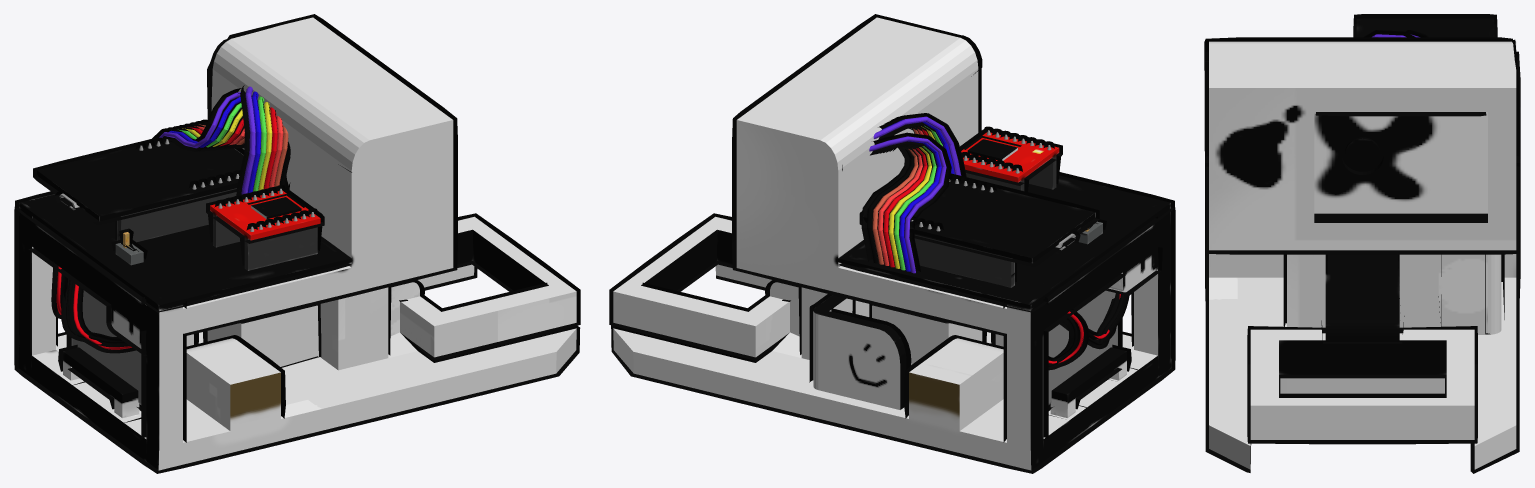
File: TuFu.glb
The picture shows the model from 3 angles, left to right: view 1: azimuth 30°, elevation 25°; view 2: azimuth 150°, elevation 25°; view 3: azimuth 270°, elevation 25°; orthographic projection. The views are drawn at different scales.
Visible parts, largest first — view 1: Tufu; view 2: Tufu; view 3: Tufu.
Boxes of the visible parts, x1,y1,x2,y2 form: Tufu: (14,14,580,473); Tufu: (609,14,1175,473); Tufu: (1204,14,1520,473).
Bounding box in the file's own units: 7.6 × 4.56 × 4.18.
13 materials, 1 textured.
